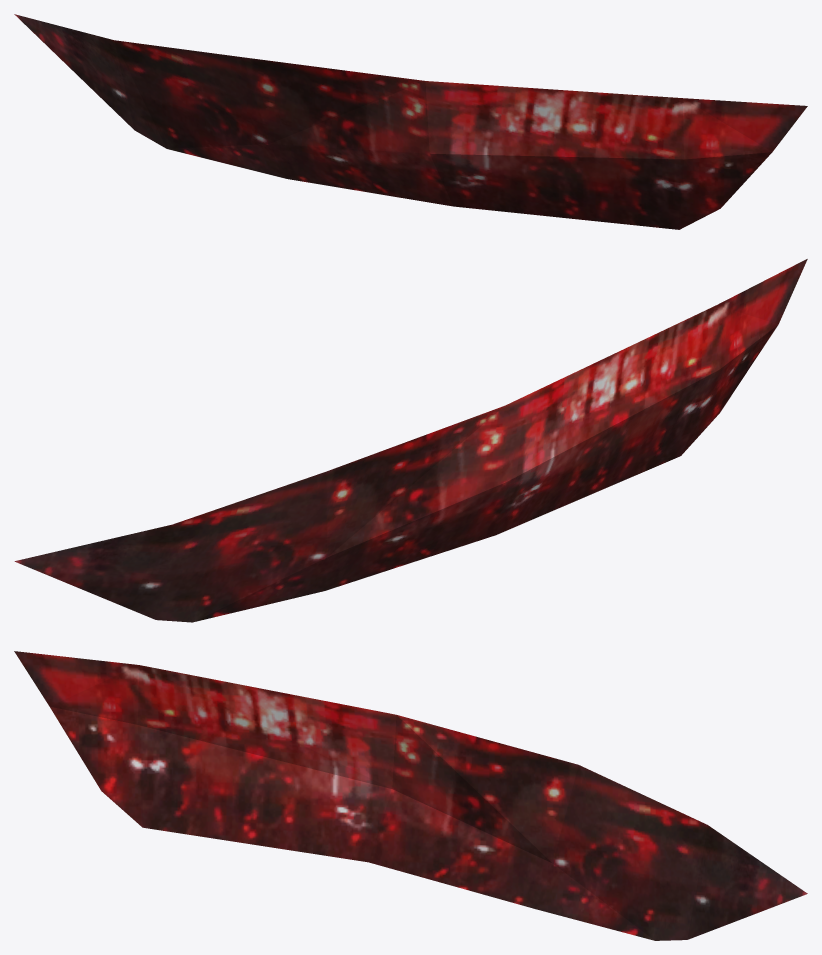
Rendered from E5_灯光系统_后雾灯.FBX.
The picture shows the model from 3 angles, top to bottom: view 1: azimuth 90°, elevation 25°; view 2: azimuth 150°, elevation 25°; view 3: azimuth 270°, elevation 25°; orthographic projection. The views are drawn at different scales.
Parts seen in each view (by area): view 1: HWD_01; view 2: HWD_01; view 3: HWD_01.
Part boxes in pixels (x1,y1,x2,y2): HWD_01: (14, 14, 807, 229); HWD_01: (14, 259, 807, 622); HWD_01: (14, 651, 807, 940).
Bounding box in the file's own units: 11.78 × 5.46 × 23.63.
